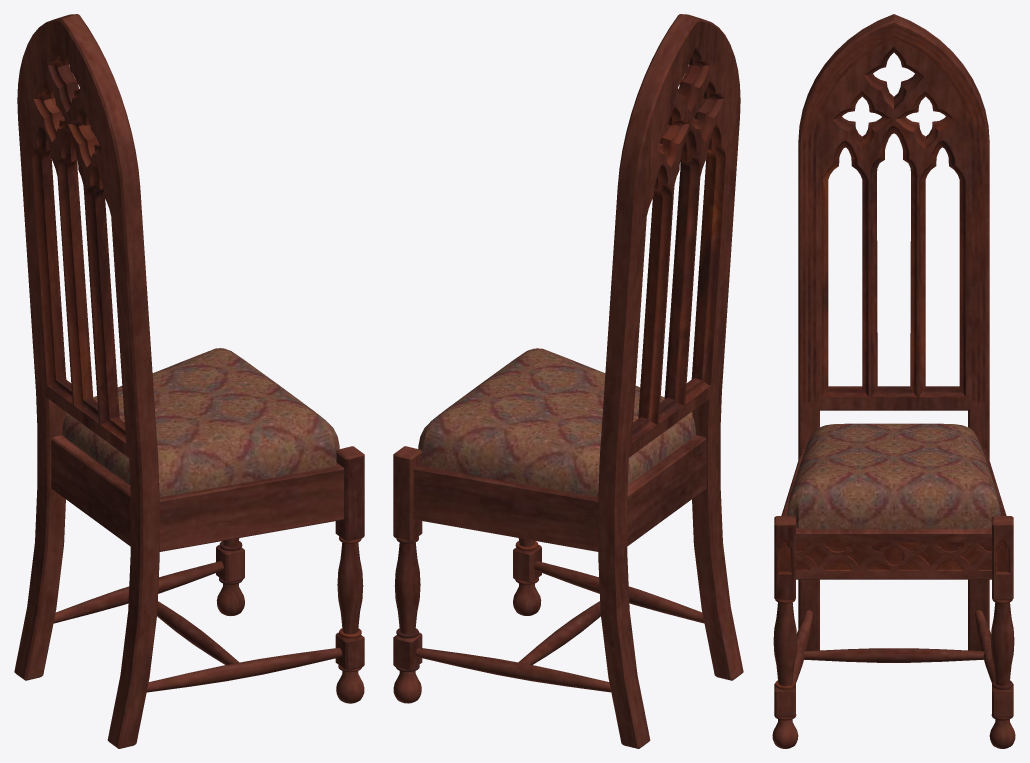
Rendered from chair-gothic.glb.
3 views of the same model, side by side, from view 1: azimuth 30°, elevation 25°; view 2: azimuth 150°, elevation 25°; view 3: azimuth 270°, elevation 25° (orthographic). The views are drawn at different scales.
Parts seen in each view (by area): view 1: chair-gothic; view 2: chair-gothic; view 3: chair-gothic.
Part boxes in pixels (<box>): chair-gothic: <box>14,14,364,748</box>; chair-gothic: <box>393,14,743,748</box>; chair-gothic: <box>772,14,1015,748</box>.
Bounding box in the file's own units: 0.4628 × 1.27 × 0.4422.
Materials: 1 (1 with a texture image).
